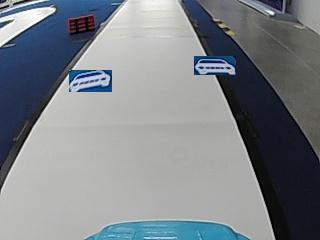bomb: (68, 13, 95, 32)
